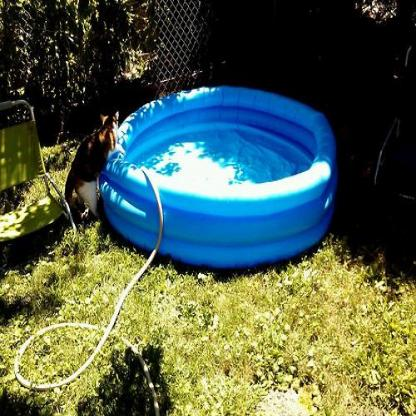Target: (63, 108, 121, 232)
